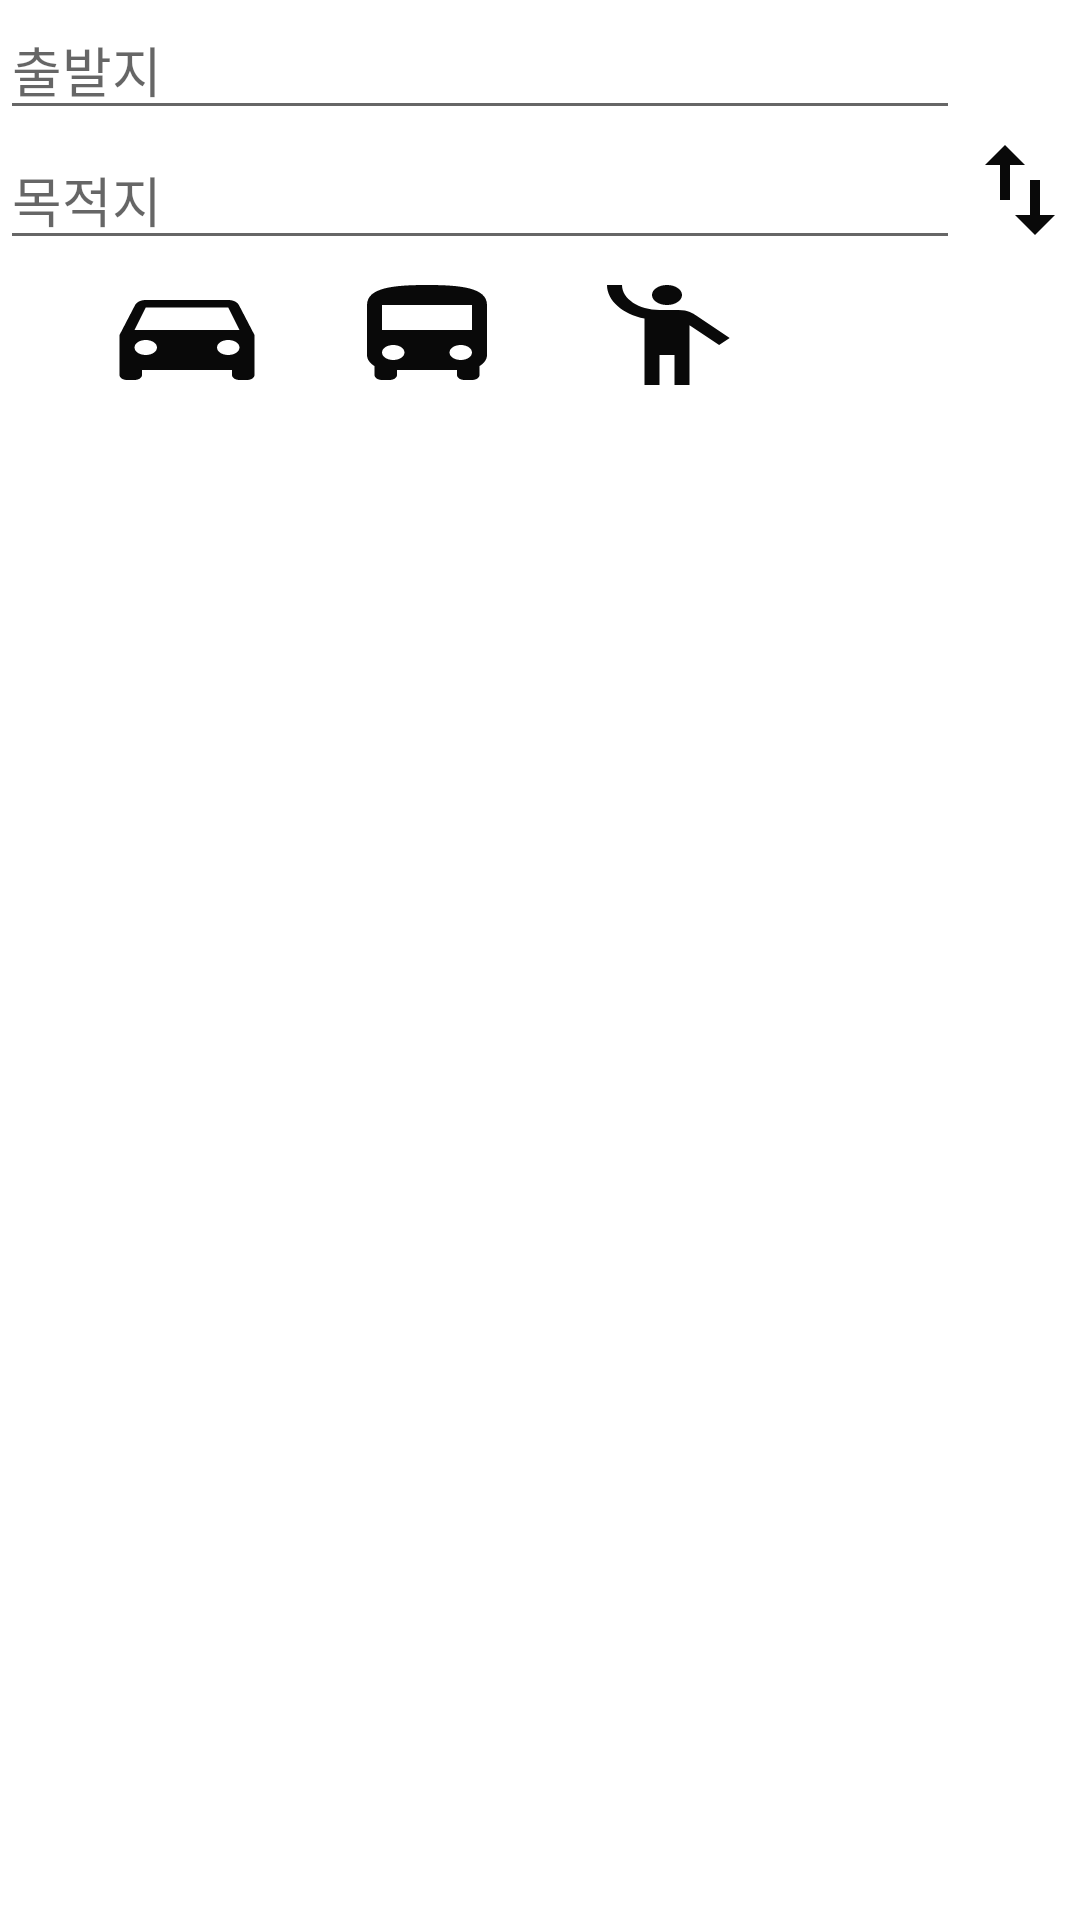

Named icons in this screenshot (1080x1920) and their centers, point (x, y):
directions bus: point (427, 332)
directions car: point (187, 340)
emoji people: point (668, 335)
swap vert: point (1020, 190)
